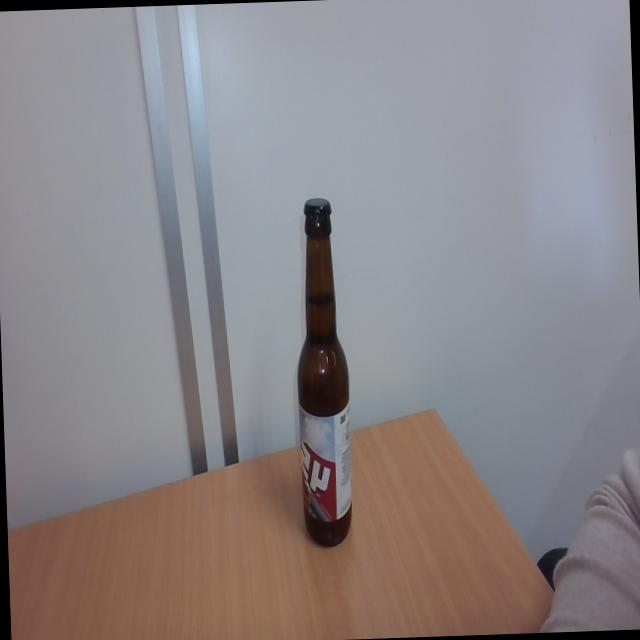Bottle: (292, 217, 356, 548)
Cap: (302, 193, 334, 222)
Label: (298, 402, 354, 520)
